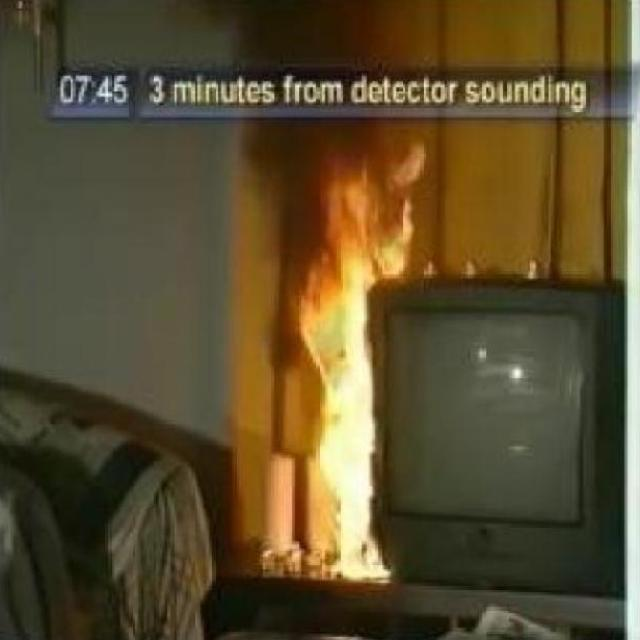smoke: (290, 130, 433, 580)
